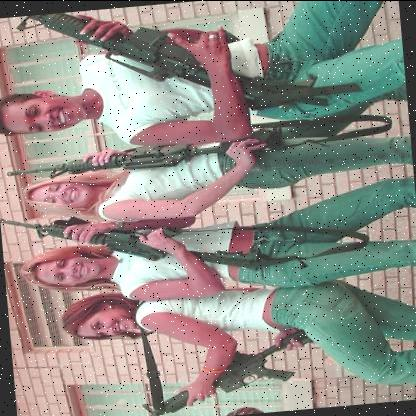rifle: (0, 0, 307, 133), (0, 185, 299, 294), (103, 324, 320, 416), (1, 123, 281, 183)
